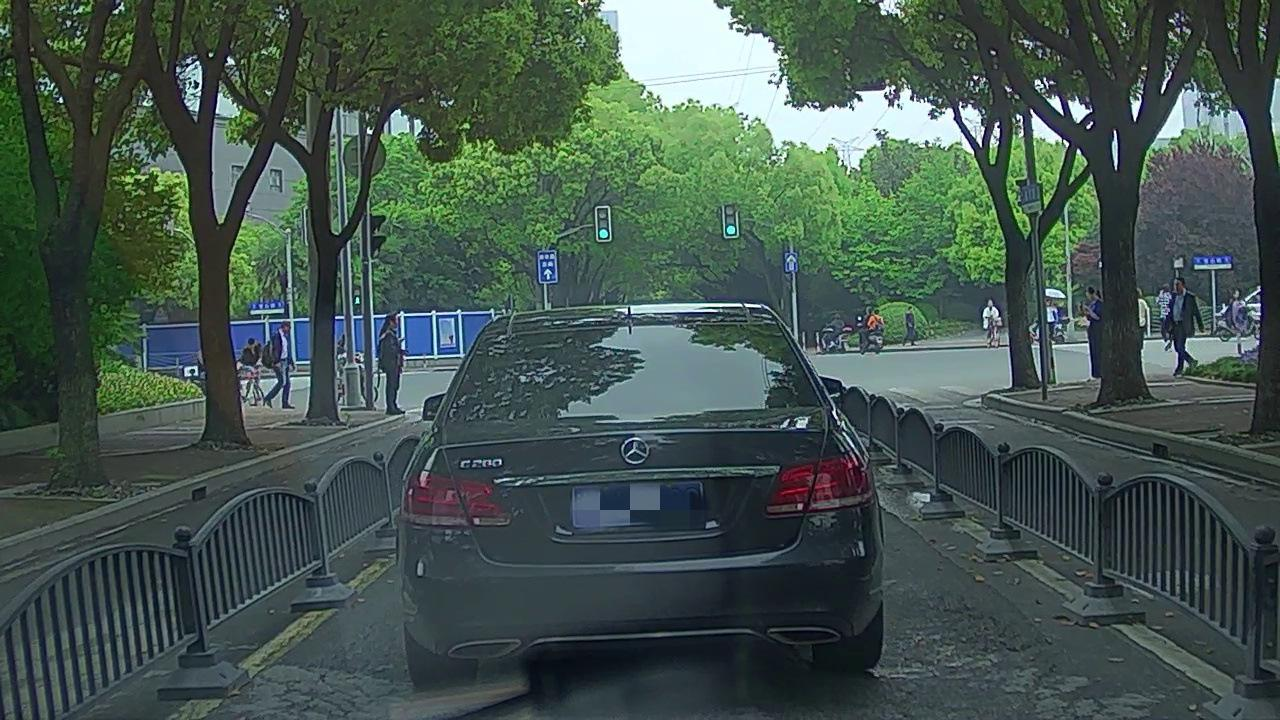traffic_light: (596, 207, 610, 241), (722, 206, 737, 236)
